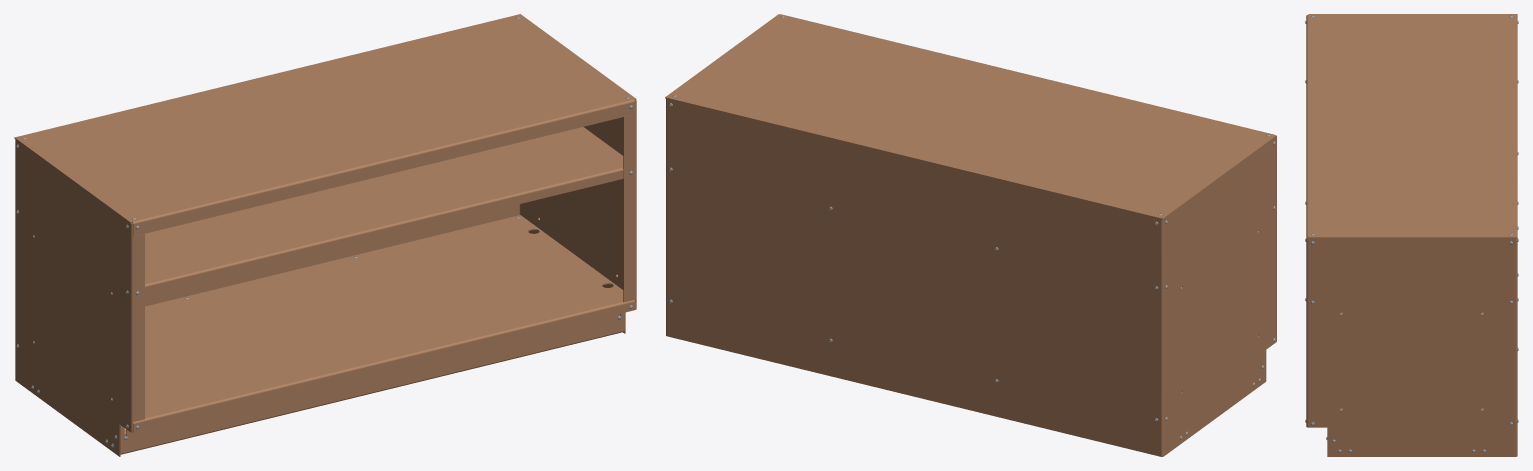
The model's file is asado1500.glb.
3 views of the same model, side by side, from view 1: azimuth 30°, elevation 25°; view 2: azimuth 150°, elevation 25°; view 3: azimuth 270°, elevation 25° (orthographic). The views are drawn at different scales.
Visible parts, largest first — view 1: corten; view 2: corten; view 3: corten, stal.
Part boxes in pixels (left/top/right/bottom): corten: left=14, top=14, right=636, bottom=456; corten: left=665, top=14, right=1276, bottom=456; corten: left=1306, top=14, right=1517, bottom=456; stal: left=1305, top=15, right=1518, bottom=452.
Bounding box in the file's own units: 1.51 × 0.692 × 0.6059.
